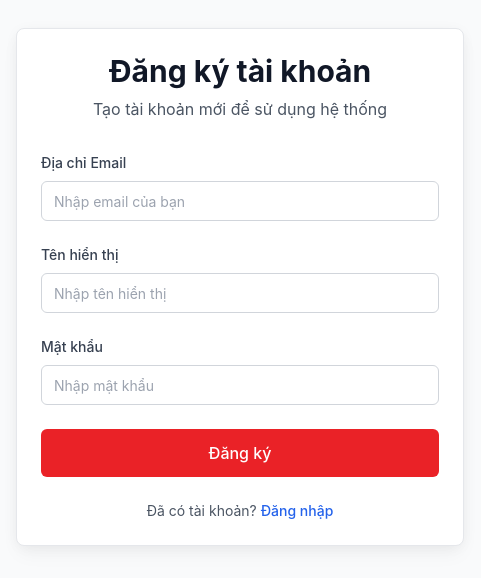
SignUpPage › shows only password required error
Type "test@example.com" into the field with placeholder "Nhập email của bạn" at (240, 201), box [41, 181, 439, 221]
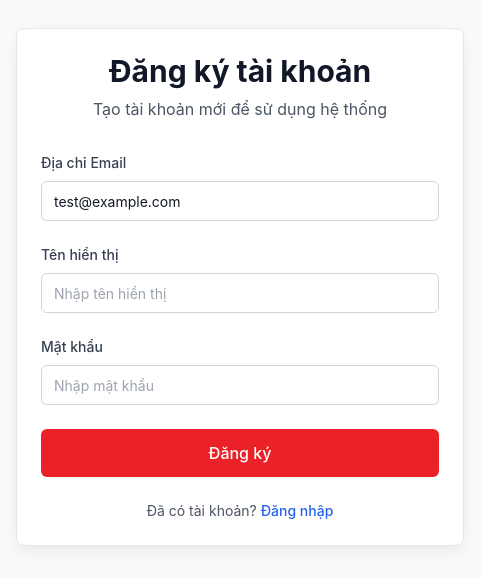
Type "Test" into the field with placeholder "Nhập tên hiển thị" at (240, 293), box [41, 273, 439, 313]
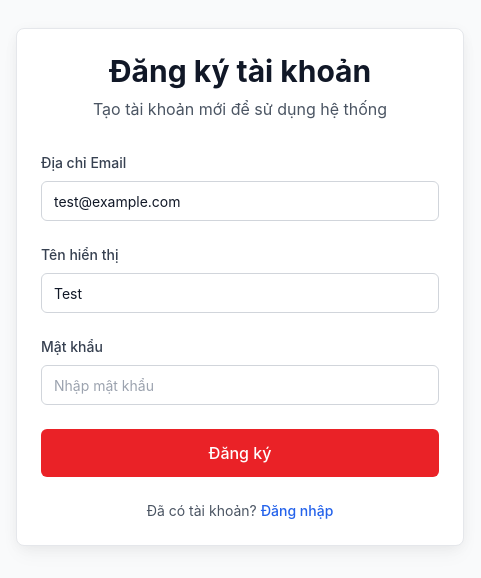
Click the button "Đăng ký" at (240, 453), box [41, 429, 439, 477]
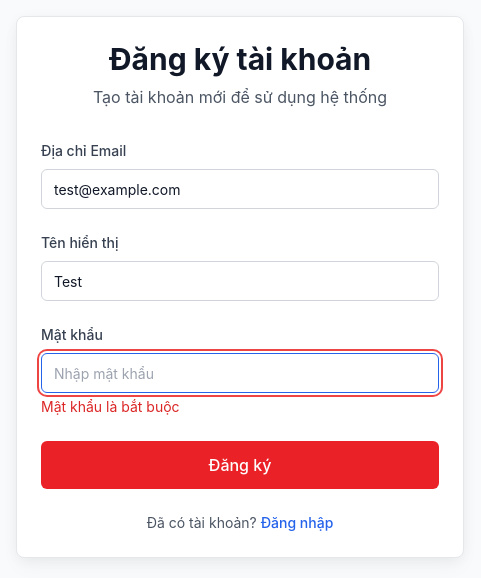
Check: the text with test id "password-error" reads "Mật khẩu là bắt buộc", box [41, 398, 180, 415]
